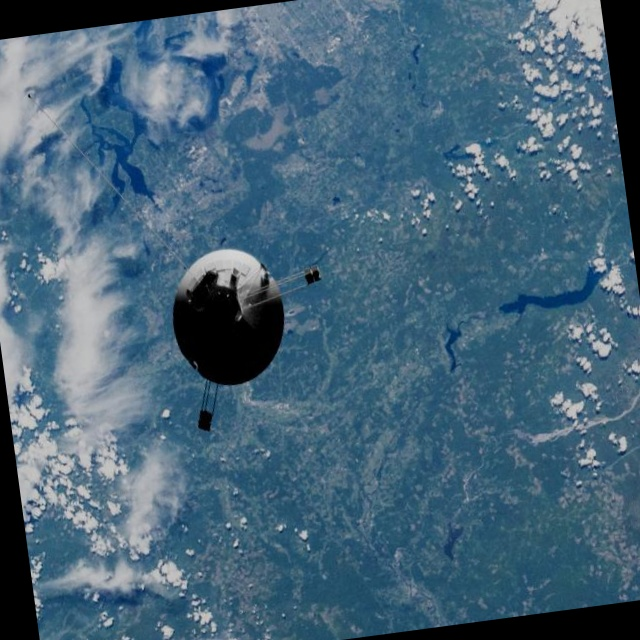satellite: (132, 205, 354, 453)
